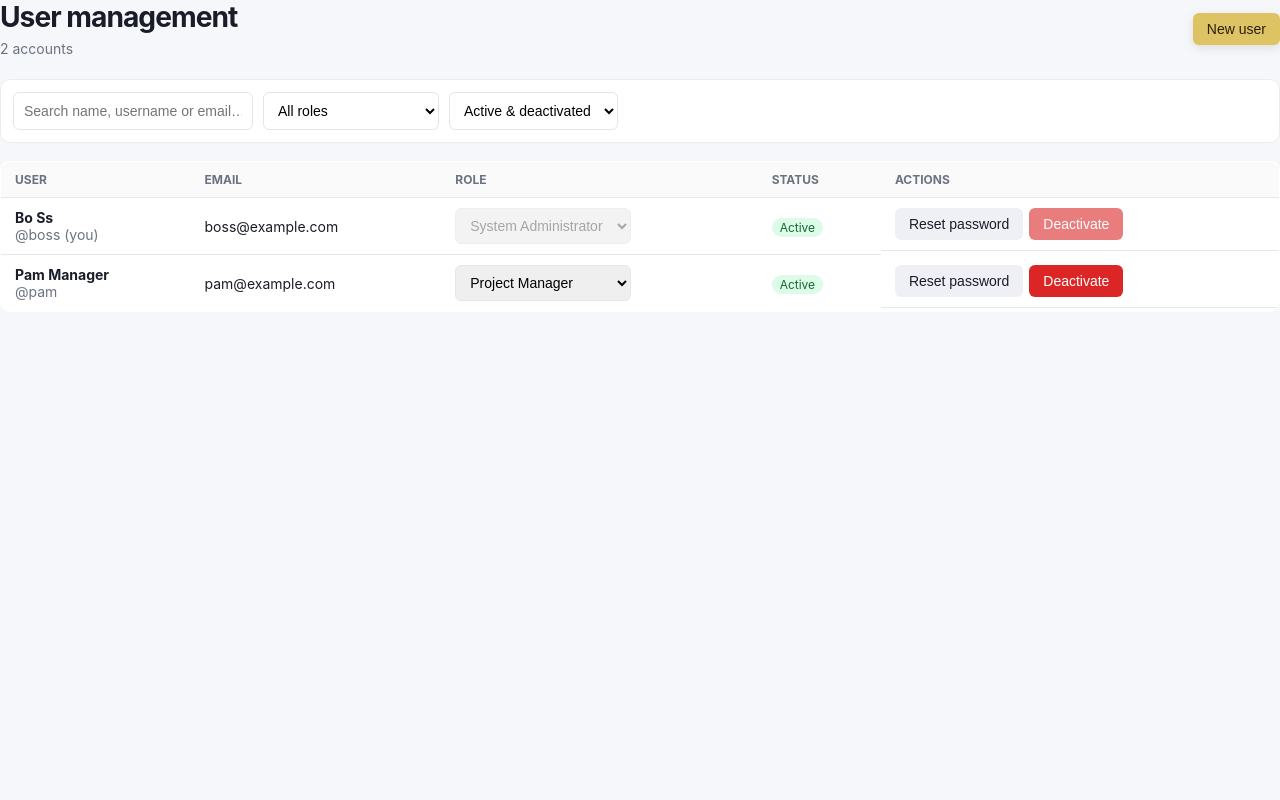
AdminUsers page › lists users and resets a password via the modal
Expected: the text "@pam" is shown, [15,283,57,300]
Click the button "Reset password" in the row of "Manager" at (959, 280), box [895,264,1023,296]
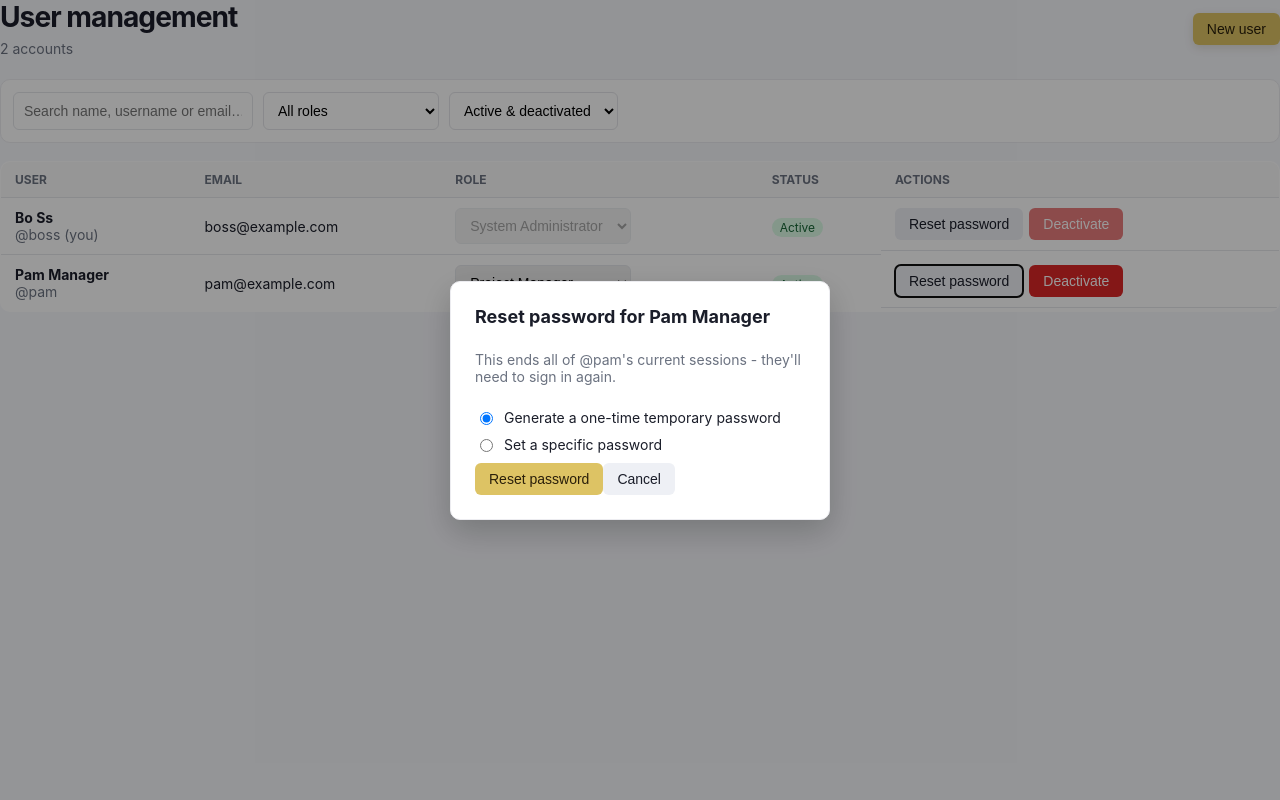
Click the button "Reset password" at (539, 478), box [475,462,603,494]
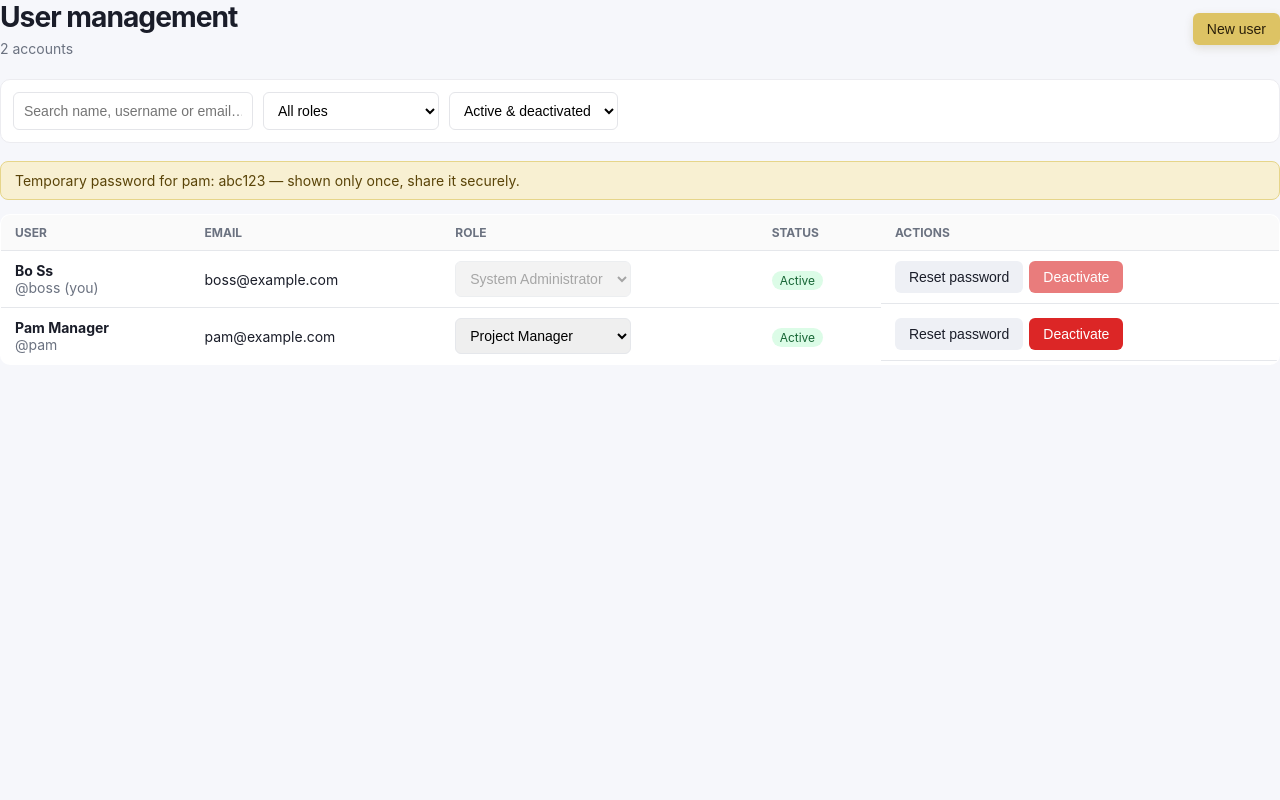
Expected: the text "Temporary password for pam: abc123" is shown, [15,172,520,189]
